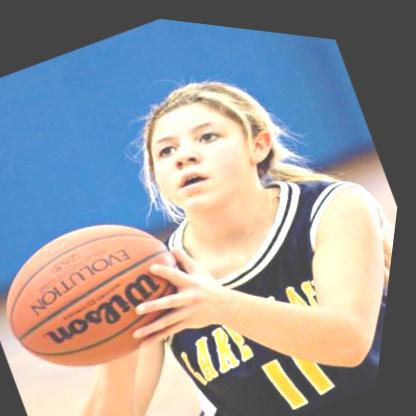basketball: (0, 182, 214, 400)
